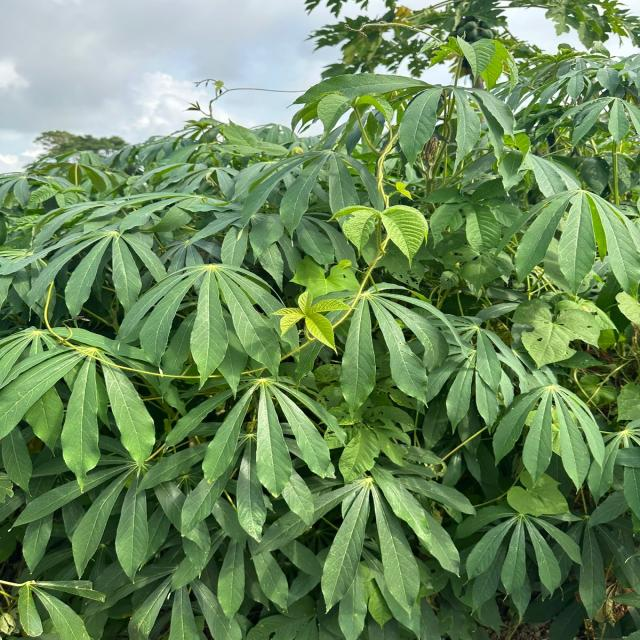Maleza: (515, 293, 598, 368), (292, 262, 351, 359), (345, 198, 432, 263), (434, 185, 516, 252), (327, 406, 412, 467), (433, 29, 510, 86)
